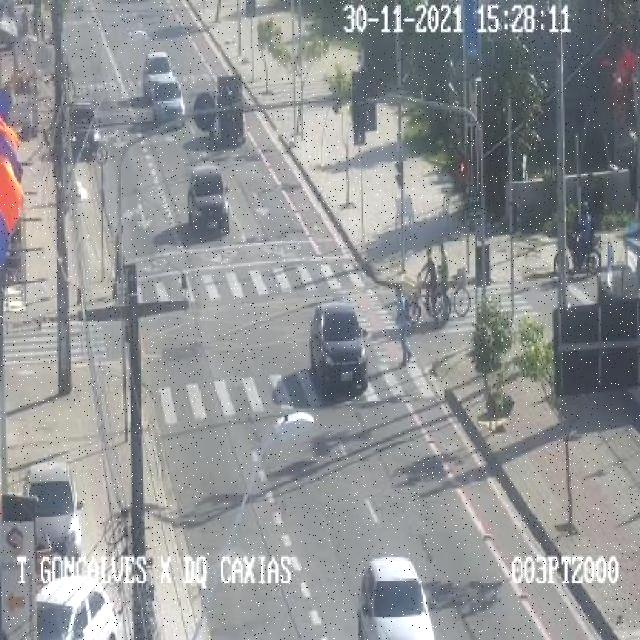Car: (360, 556, 438, 636), (22, 461, 82, 559), (307, 304, 369, 395), (34, 576, 124, 638), (187, 165, 230, 236), (153, 75, 184, 128)
